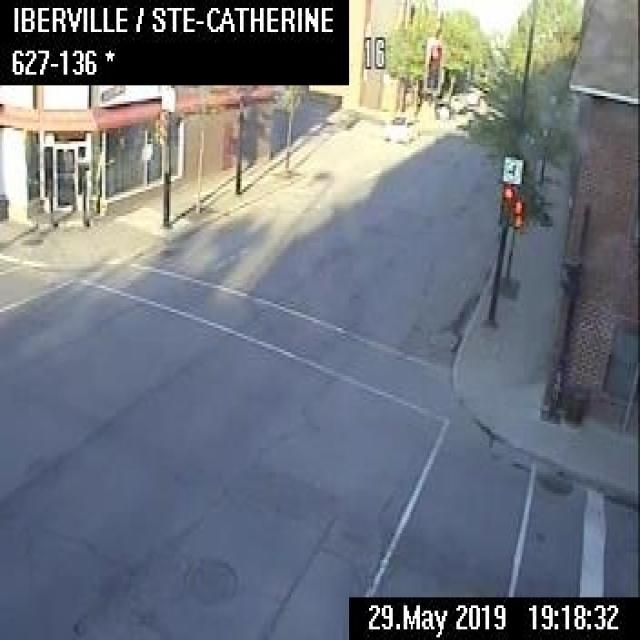vehicle: (382, 112, 417, 141), (433, 97, 452, 118), (448, 92, 466, 110), (462, 83, 478, 103)
